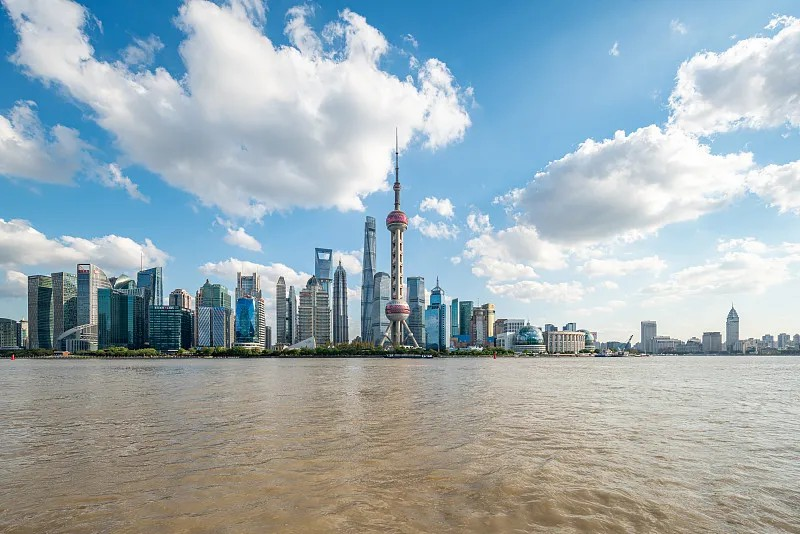Oriental: (380, 129, 420, 349)
